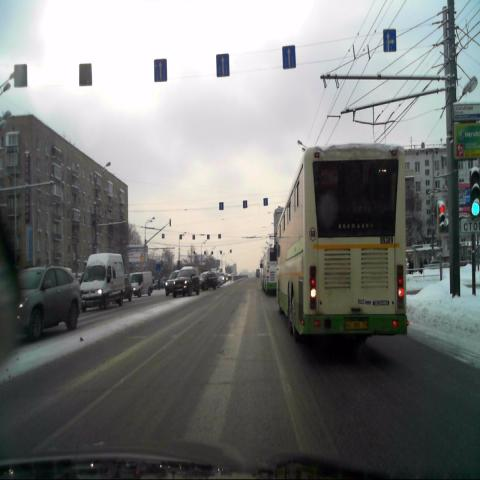5_15_2: (154, 58, 168, 80), (384, 29, 397, 52), (283, 46, 296, 68), (216, 55, 230, 75)
